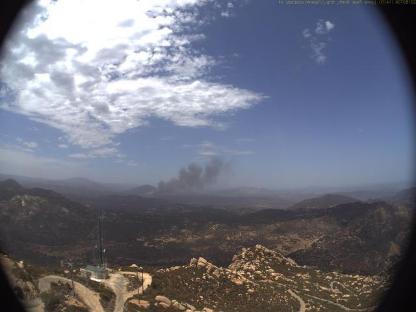smoke: (121, 150, 238, 202)
